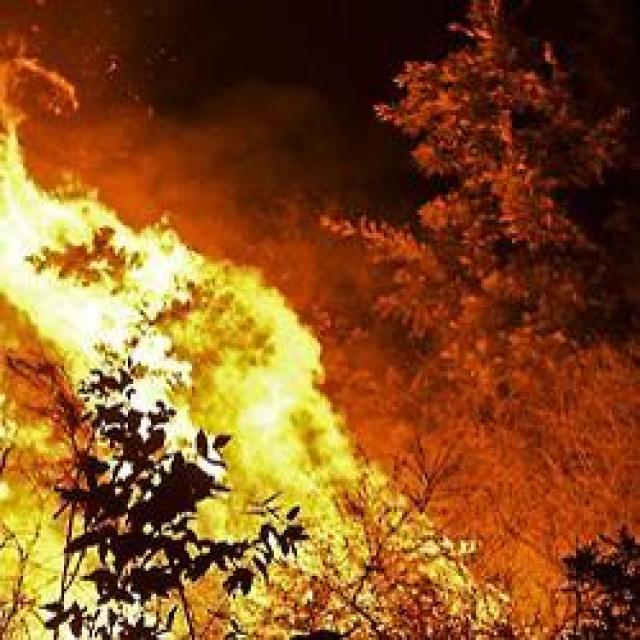fire: (1, 45, 187, 343), (140, 230, 324, 520)
